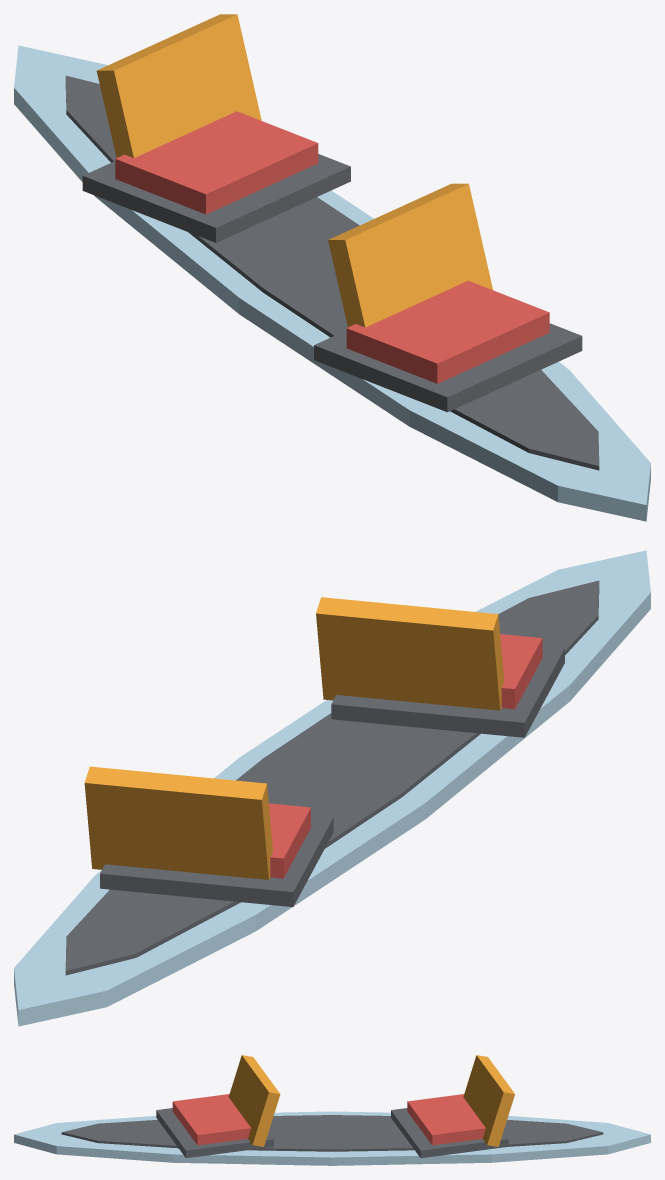
Rendered from ski-resort-and-snow-park-snowboard-58d1565c__26010.glb.
3 views of the same model, one above another, from view 1: azimuth 30°, elevation 25°; view 2: azimuth 150°, elevation 25°; view 3: azimuth 270°, elevation 25° (orthographic). The views are drawn at different scales.
Visible parts, largest first — view 1: snowboard; view 2: snowboard; view 3: snowboard.
Boxes of the visible parts, x1,y1,x2,y2 form: snowboard: [14, 14, 650, 521]; snowboard: [14, 550, 650, 1026]; snowboard: [14, 1055, 650, 1165].
Size of the model in its own units: 0.2943 by 0.1813 by 1.52.
